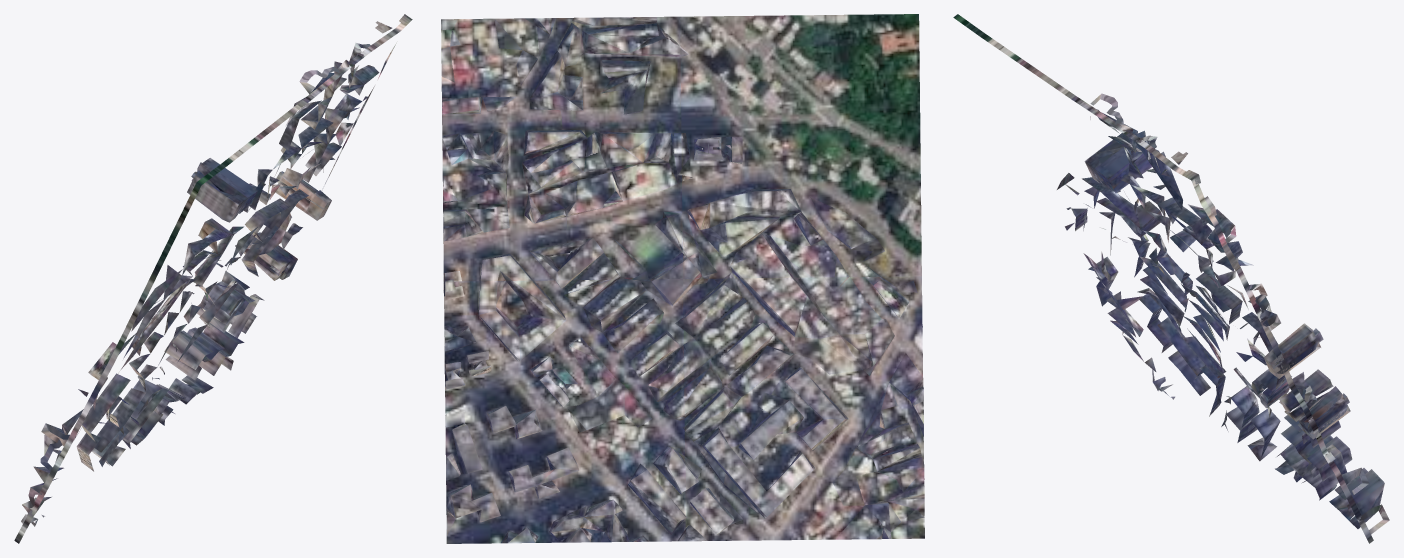
3 views of the same model, side by side, from view 1: azimuth 30°, elevation 25°; view 2: azimuth 150°, elevation 25°; view 3: azimuth 270°, elevation 25° (orthographic). The views are drawn at different scales.
Size of the model in its own units: 611 by 566 by 534.
Materials: 2 (2 with a texture image).
